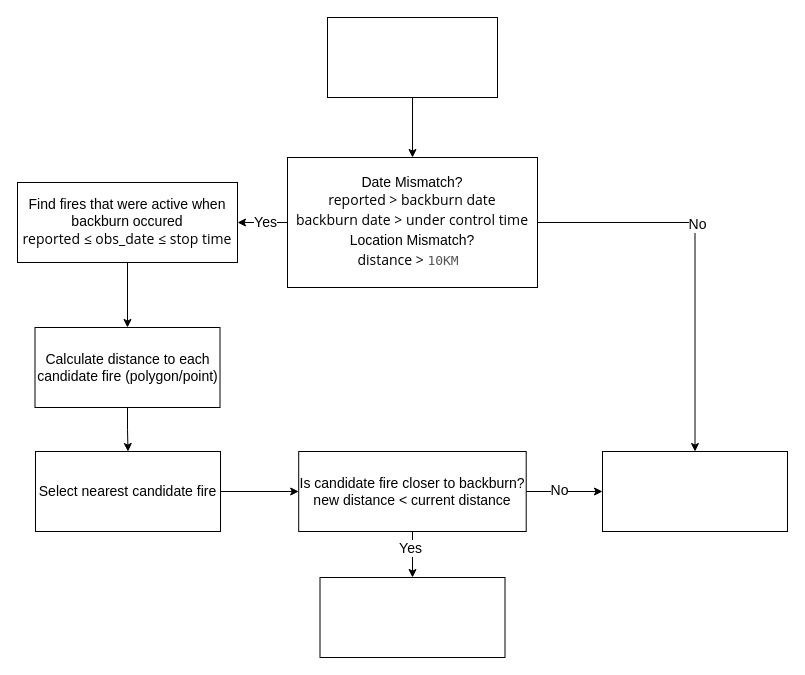
The diagram is 805 pixels wide and 675 high, and some of its shapes have lost their labels. The centre of each missing label's shape, as x and y in pixels:
"backburns and fires dataset" belongs at (412,57).
"Keep current assignment" belongs at (695,491).
"Reassign backburn to candidate fire" belongs at (412,617).
